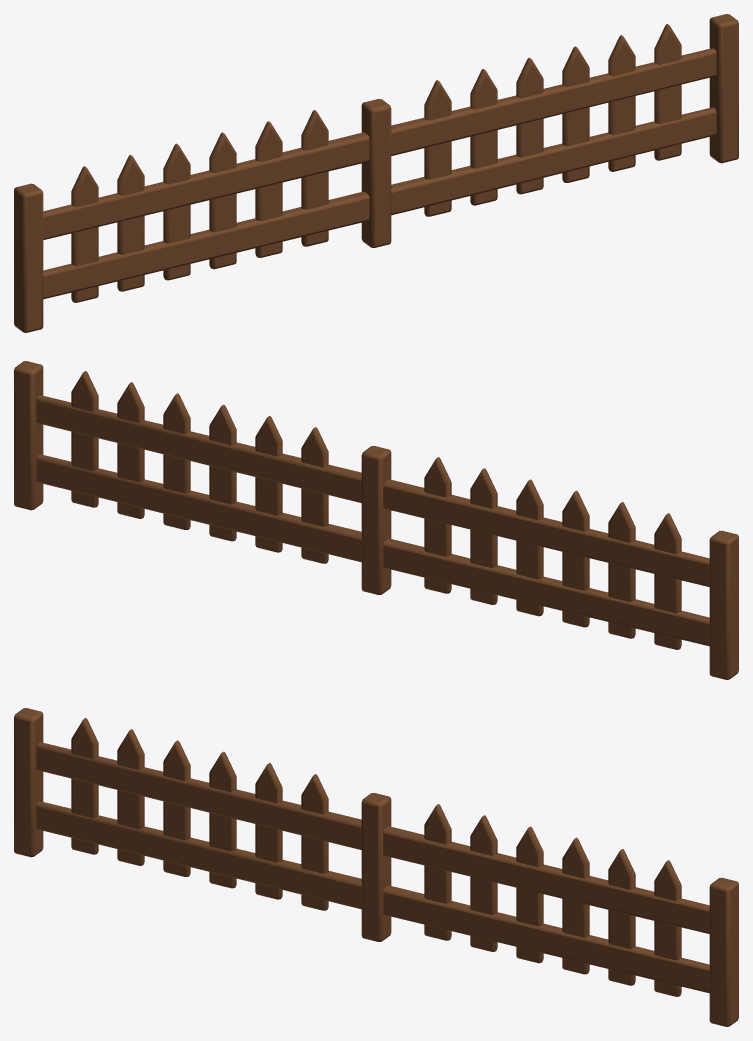
File: prop_fence_02.glb
3 renders of one model, top to bottom at view 1: azimuth 30°, elevation 25°; view 2: azimuth 150°, elevation 25°; view 3: azimuth 330°, elevation 25°, orthographic.
Visible parts, largest first — view 1: prop_fence_02; view 2: prop_fence_02; view 3: prop_fence_02.
Boxes of the visible parts, <box> form: prop_fence_02: <box>14,14,738,332</box>; prop_fence_02: <box>14,361,738,679</box>; prop_fence_02: <box>14,708,738,1026</box>.
Bounding box in the file's own units: 5.89 × 1.16 × 0.1655.
